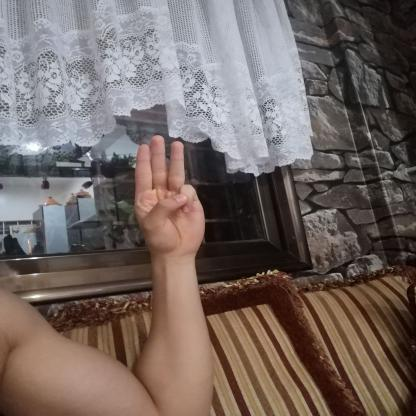THA: (119, 127, 217, 265)
